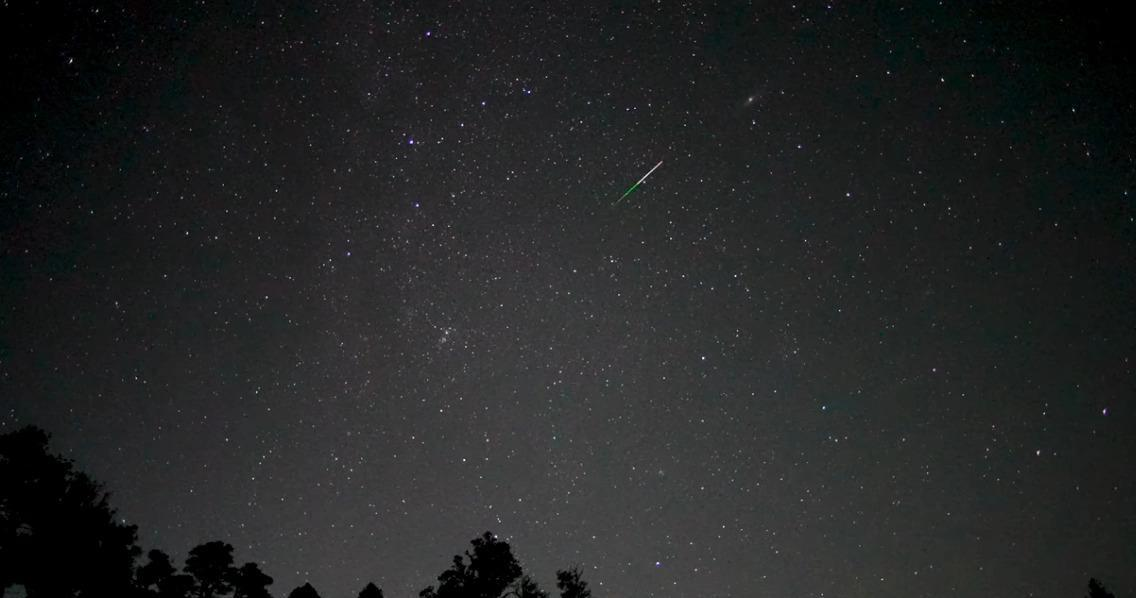meteorite: (587, 153, 683, 210)
